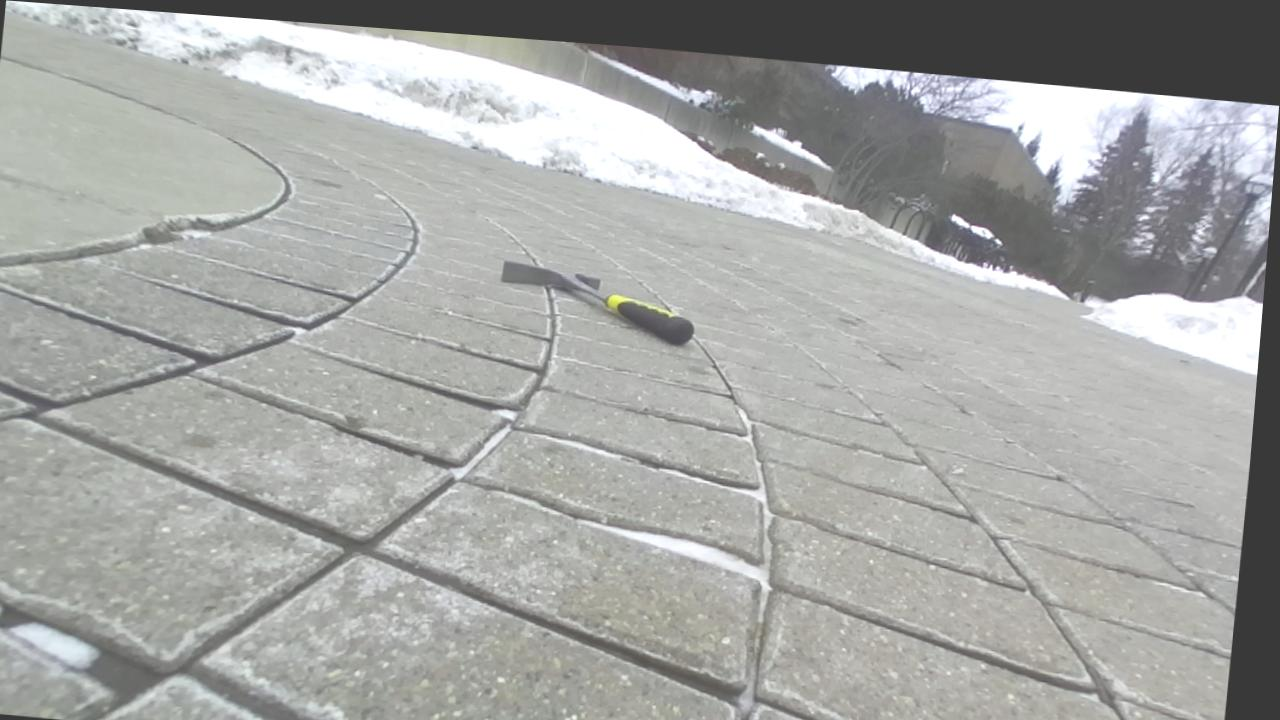pick: (502, 261, 693, 344)
